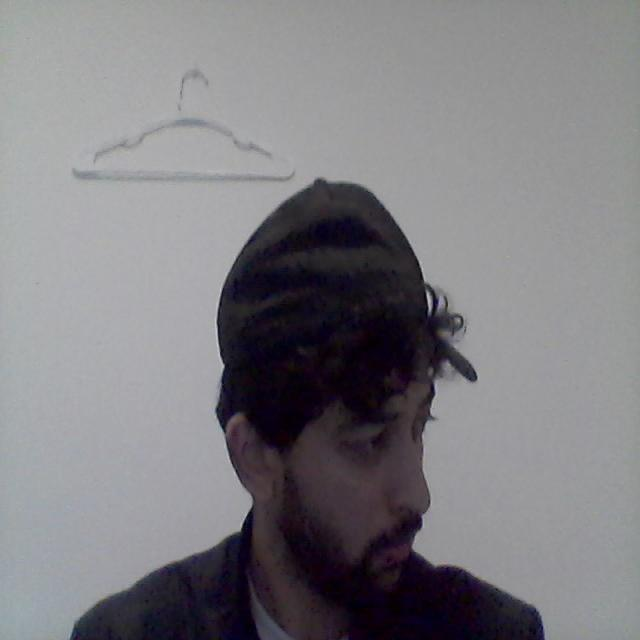cap: (164, 163, 547, 444)
